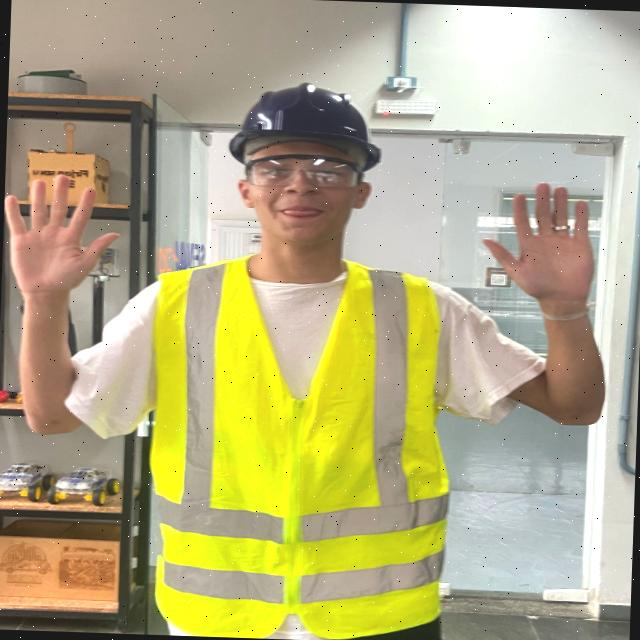CAPACETE: (217, 79, 382, 166)
COLETE: (145, 250, 443, 638)
OCULOS: (231, 151, 364, 194)
SEM LUVA: (475, 177, 595, 302), (5, 174, 125, 291)
